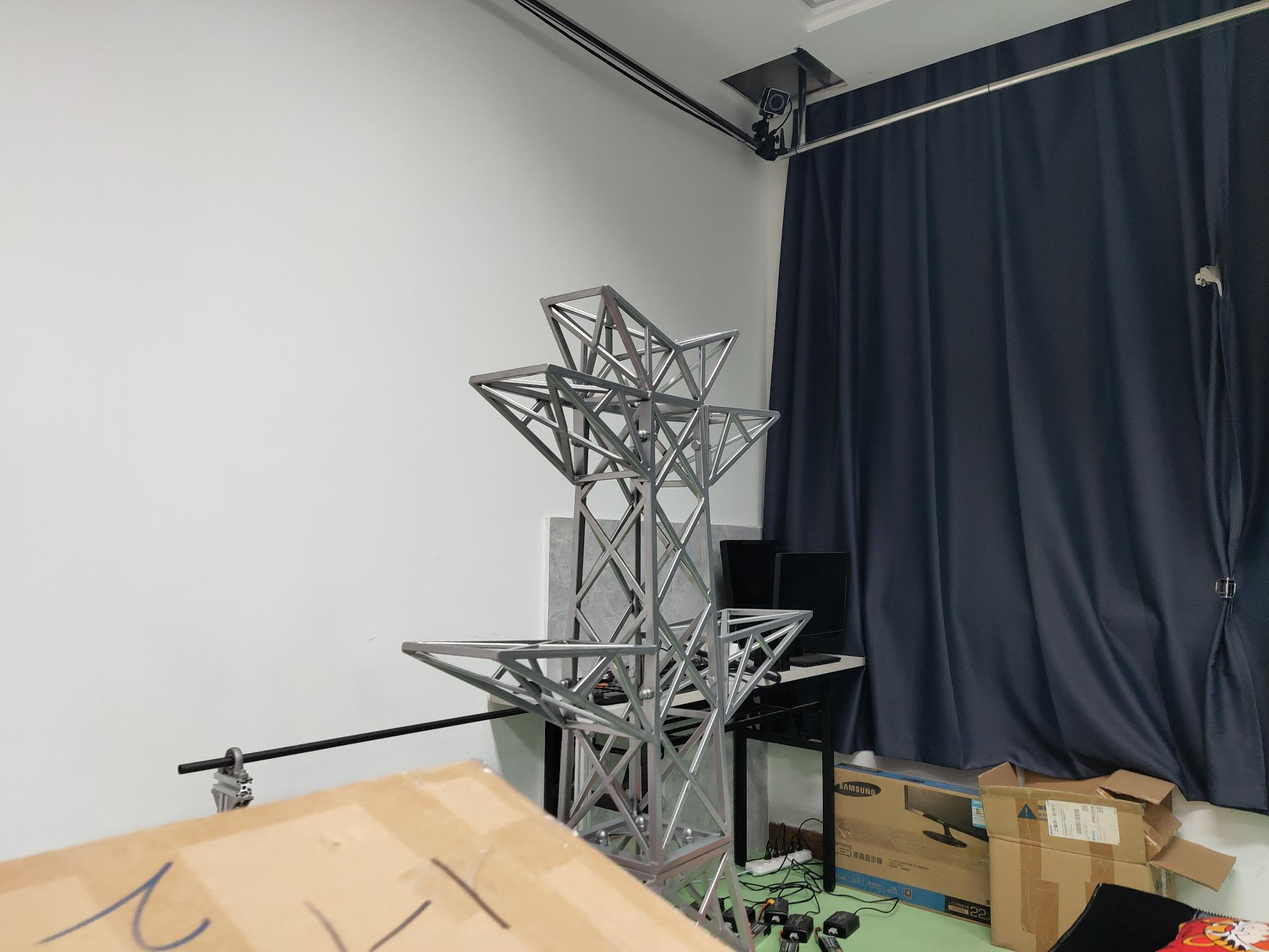tower: (398, 282, 816, 841)
